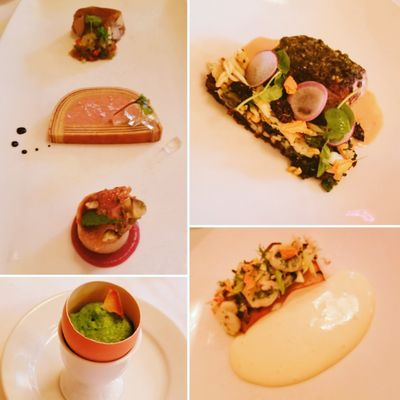pizza: (60, 280, 142, 362)
soup: (205, 34, 379, 193)
sushi: (61, 280, 142, 360)
